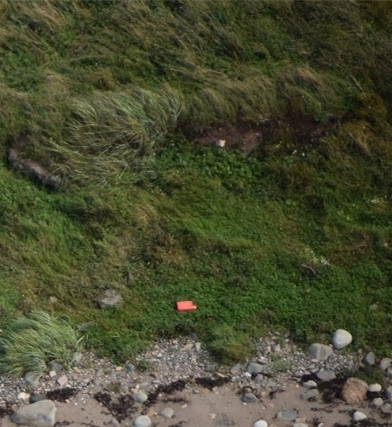white_in_green: (159, 279, 213, 326), (202, 124, 240, 160)
